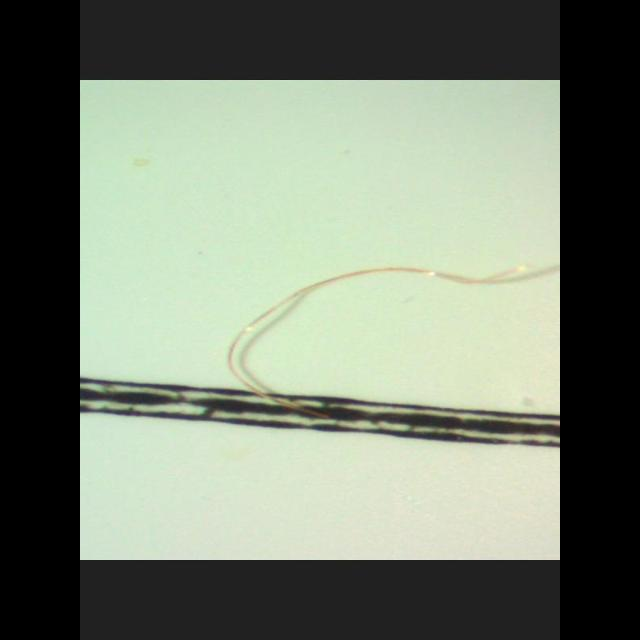Fibre: (216, 253, 560, 427)
